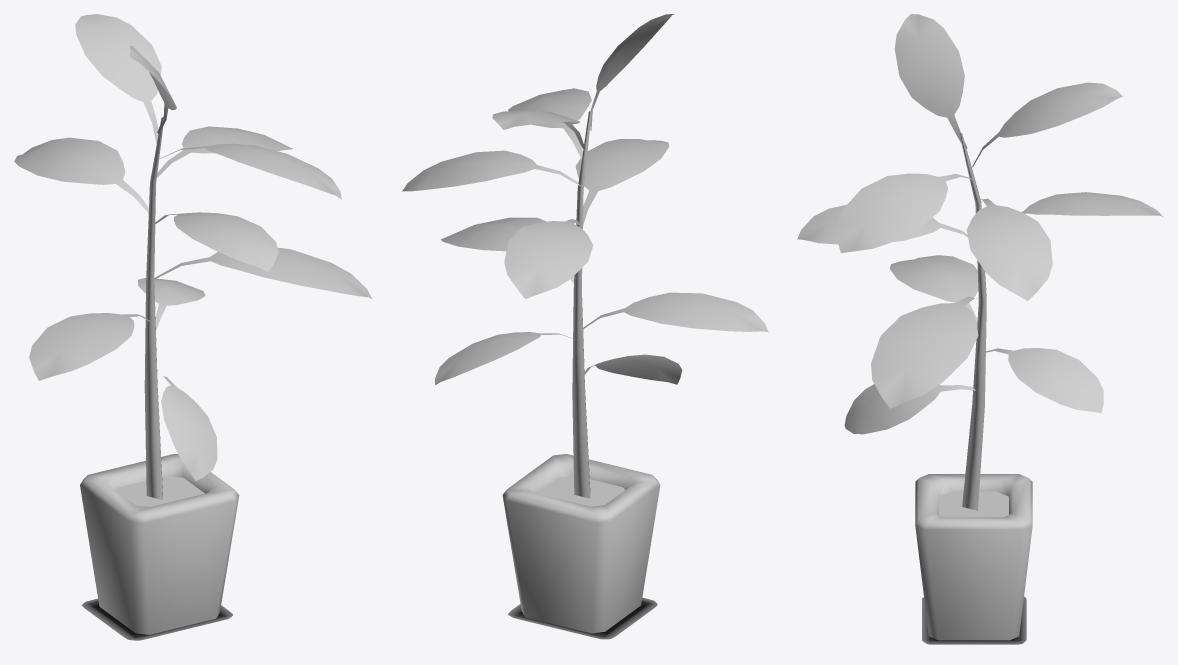
The model's file is StudentDormitory_Item_Bonsai.FBX.
3 views of the same model, side by side, from view 1: azimuth 30°, elevation 25°; view 2: azimuth 150°, elevation 25°; view 3: azimuth 270°, elevation 25° (orthographic). The views are drawn at different scales.
Parts seen in each view (by area): view 1: StudentDormitory_Item_Bonsai, StudentDormitory_Shadow_Bonsai; view 2: StudentDormitory_Item_Bonsai, StudentDormitory_Shadow_Bonsai; view 3: StudentDormitory_Item_Bonsai, StudentDormitory_Shadow_Bonsai.
Boxes of the visible parts, box(x1,y1,x2,y2) form: StudentDormitory_Item_Bonsai: box(14, 14, 371, 634); StudentDormitory_Shadow_Bonsai: box(81, 598, 232, 640); StudentDormitory_Item_Bonsai: box(402, 14, 768, 633); StudentDormitory_Shadow_Bonsai: box(508, 597, 657, 639); StudentDormitory_Item_Bonsai: box(797, 14, 1162, 640); StudentDormitory_Shadow_Bonsai: box(922, 596, 1026, 644).
Bounding box in the file's own units: 0.9814 × 1.72 × 0.9815.
